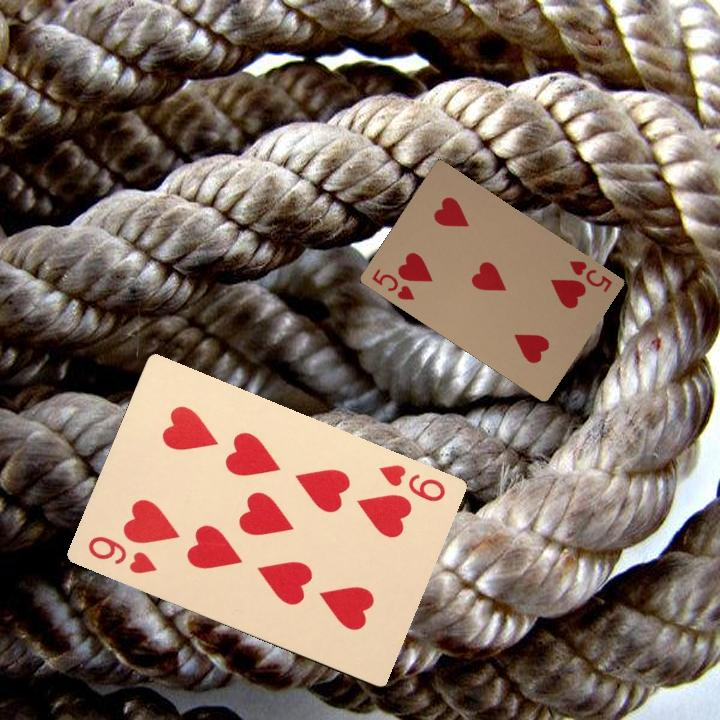5h: (367, 264, 417, 303), (565, 256, 615, 295)
9h: (84, 531, 159, 577), (374, 460, 448, 505)
